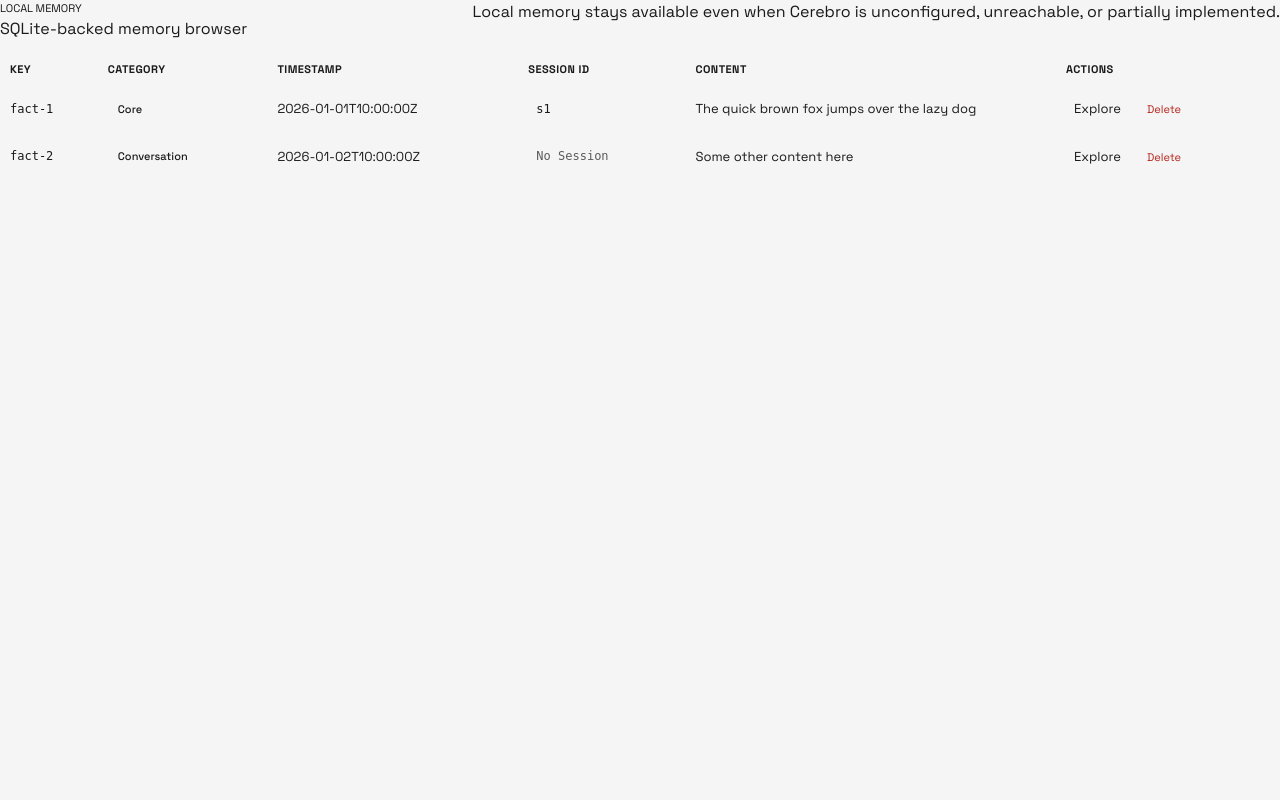
Test case: MemoryList › shows confirmation dialog when delete button is clicked
Click the button with aria-label "Delete fact-1" at (1164, 109), box [1137,95,1191,124]
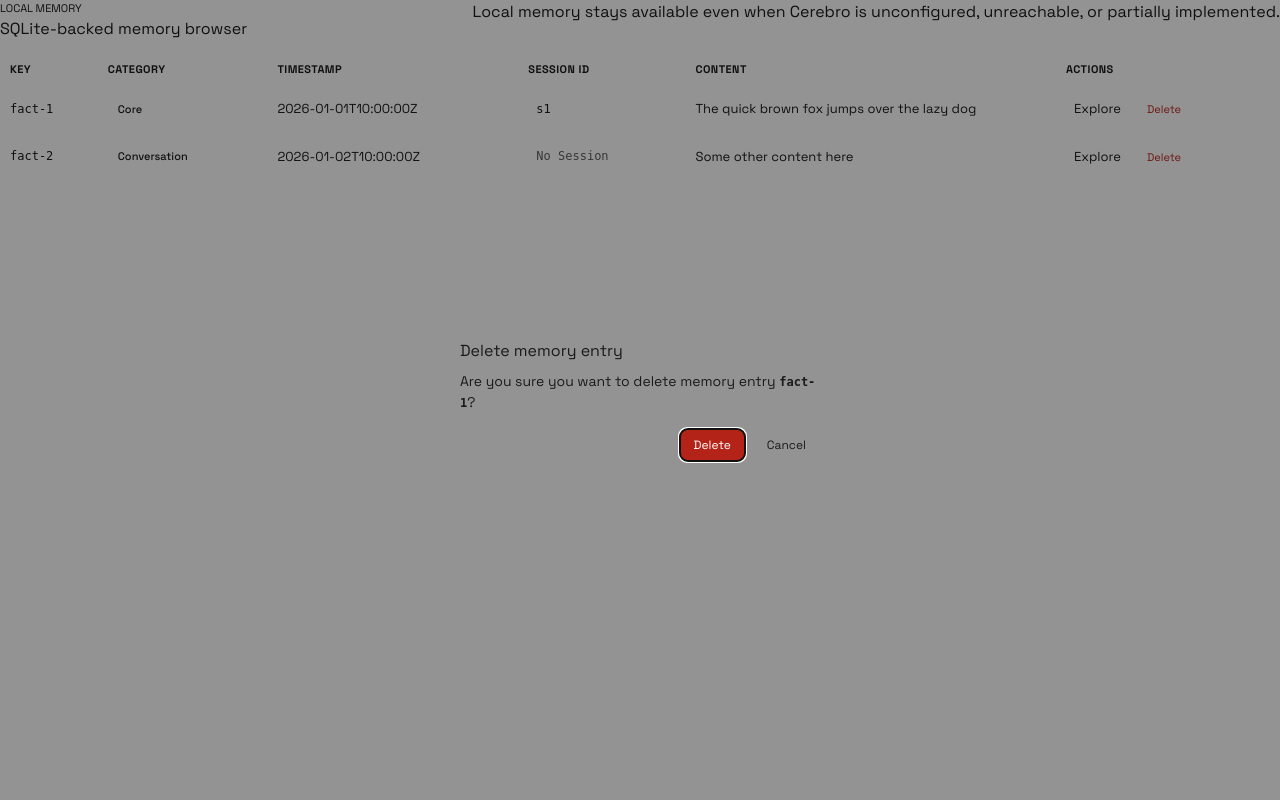
Expected: the text "fact-1" is shown, [0,85,98,132]
Result: the dialog with class "confirm-dialog" is shown at [440,319,840,481]
